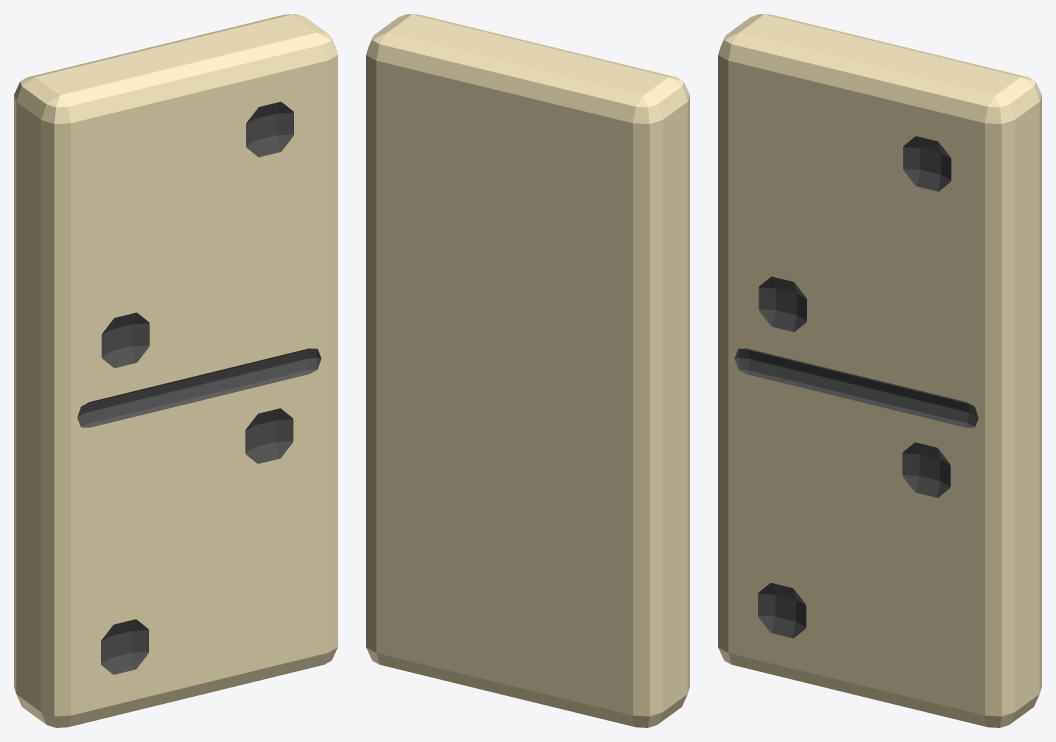
File: dominoes 2x2.fbx
3 renders of one model, left to right at view 1: azimuth 30°, elevation 25°; view 2: azimuth 150°, elevation 25°; view 3: azimuth 330°, elevation 25°, orthographic.
Parts seen in each view (by area): view 1: Boole_9; view 2: Boole_9; view 3: Boole_9.
Part boxes in pixels (x1,y1,x2,y2): Boole_9: (14, 14, 337, 727); Boole_9: (366, 14, 689, 727); Boole_9: (718, 14, 1041, 727).
Size of the model in its own units: 200 by 410 by 55.02.
